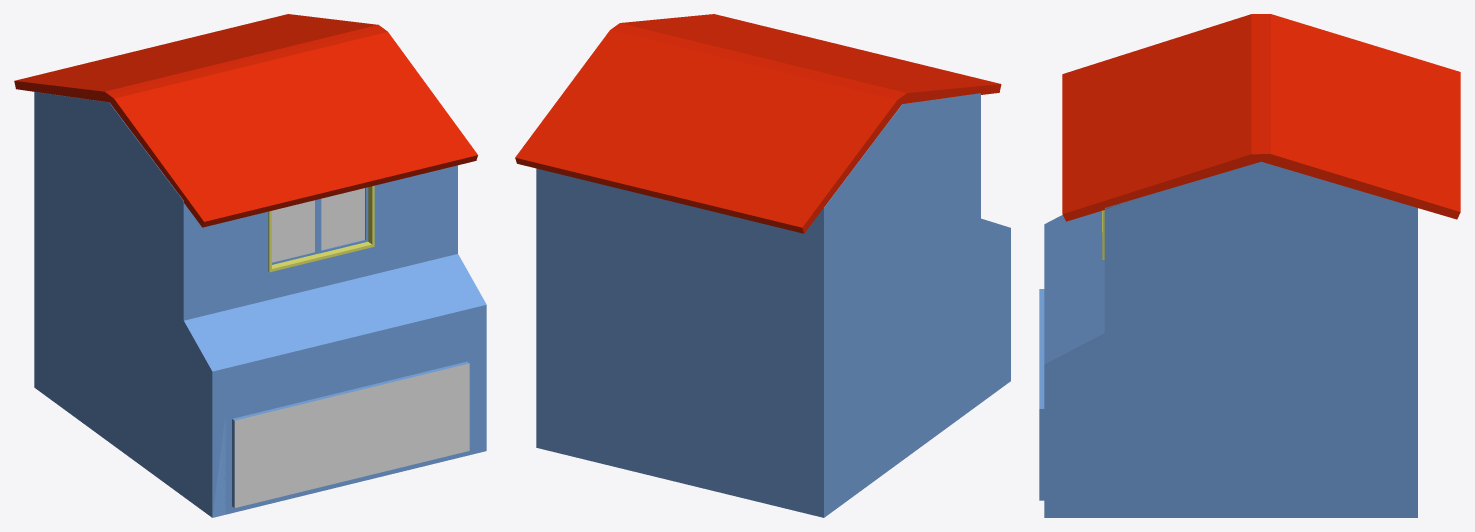
The model's file is PinkBuilding.fbx.
3 renders of one model, left to right at view 1: azimuth 30°, elevation 25°; view 2: azimuth 150°, elevation 25°; view 3: azimuth 270°, elevation 25°, orthographic. The views are drawn at different scales.
Visible parts, largest first — view 1: JapaneseResidentialHome_02.019; view 2: JapaneseResidentialHome_02.019; view 3: JapaneseResidentialHome_02.019.
Boxes of the visible parts, <box> form: JapaneseResidentialHome_02.019: <box>14,14,486,517</box>; JapaneseResidentialHome_02.019: <box>515,14,1010,517</box>; JapaneseResidentialHome_02.019: <box>1039,14,1460,517</box>.
Bounding box in the file's own units: 581 × 702 × 737.
